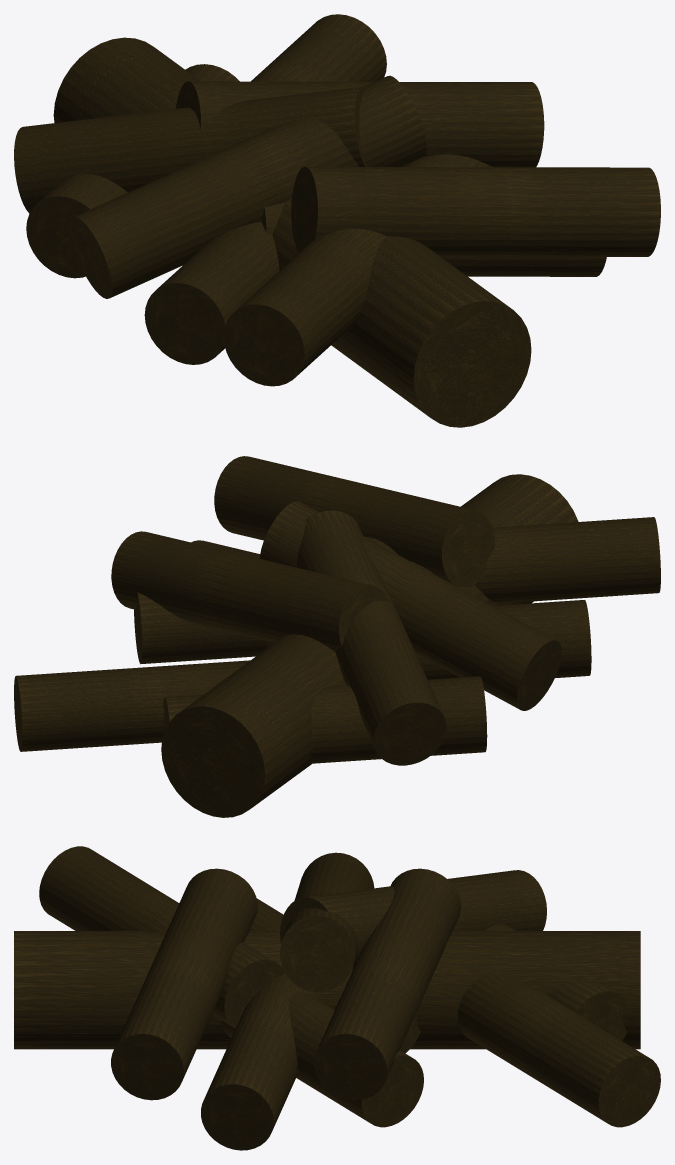
File: Campfire.obj
3 renders of one model, top to bottom at view 1: azimuth 30°, elevation 25°; view 2: azimuth 150°, elevation 25°; view 3: azimuth 270°, elevation 25°, orthographic. The views are drawn at different scales.
Visible parts, largest first — view 1: Cylinder.001; view 2: Cylinder.001; view 3: Cylinder.001.
Boxes of the visible parts, box(x1,y1,x2,y2) form: Cylinder.001: box(14, 14, 660, 427); Cylinder.001: box(14, 456, 660, 817); Cylinder.001: box(14, 846, 660, 1150).
Bounding box in the file's own units: 7.92 × 3.19 × 10.92.
